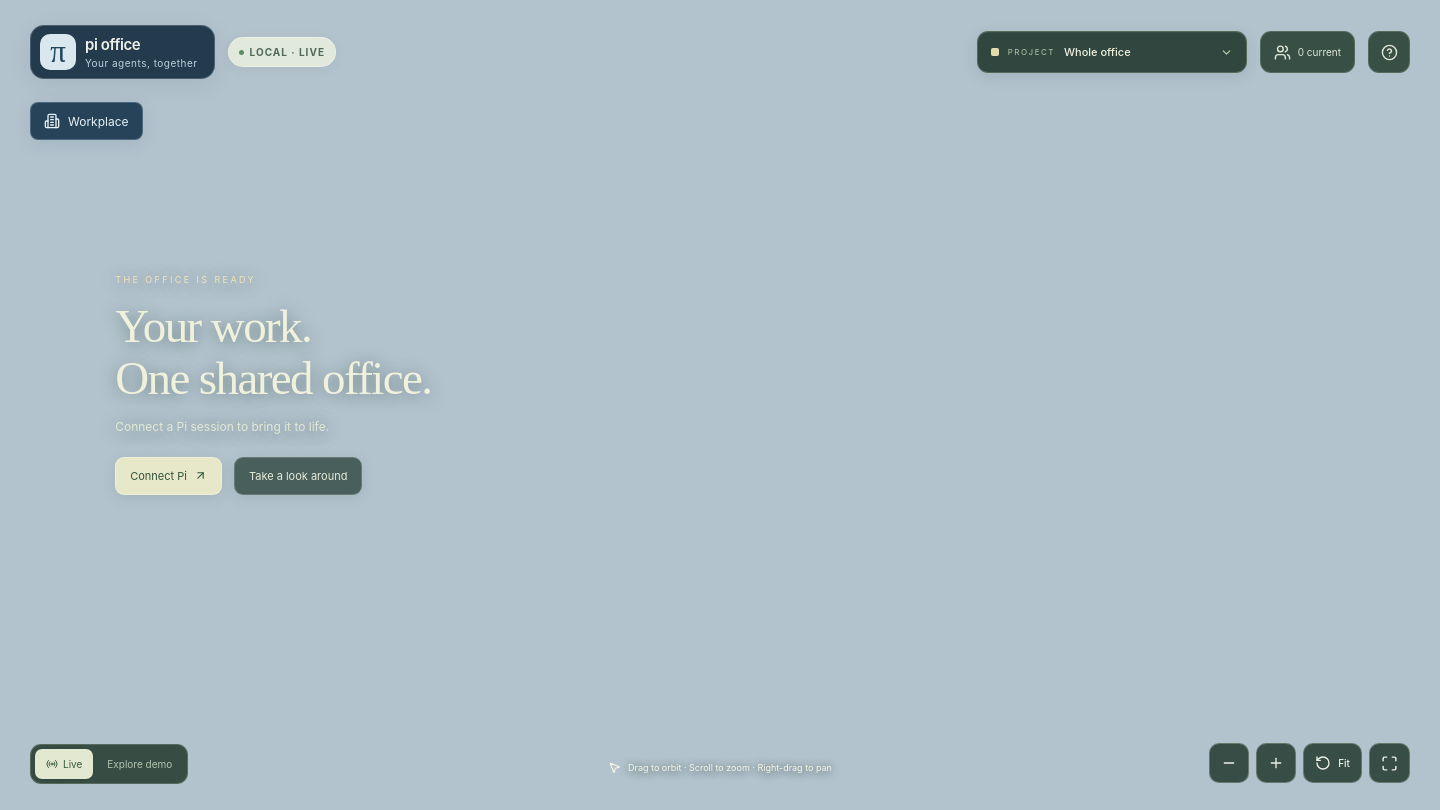
it: pre-publication frontend interaction audit › opening Inspect closes the roster so Escape dismisses the visible panel
Click the button "Explore demo". click: point(140, 764)
box: [96, 749, 183, 779]
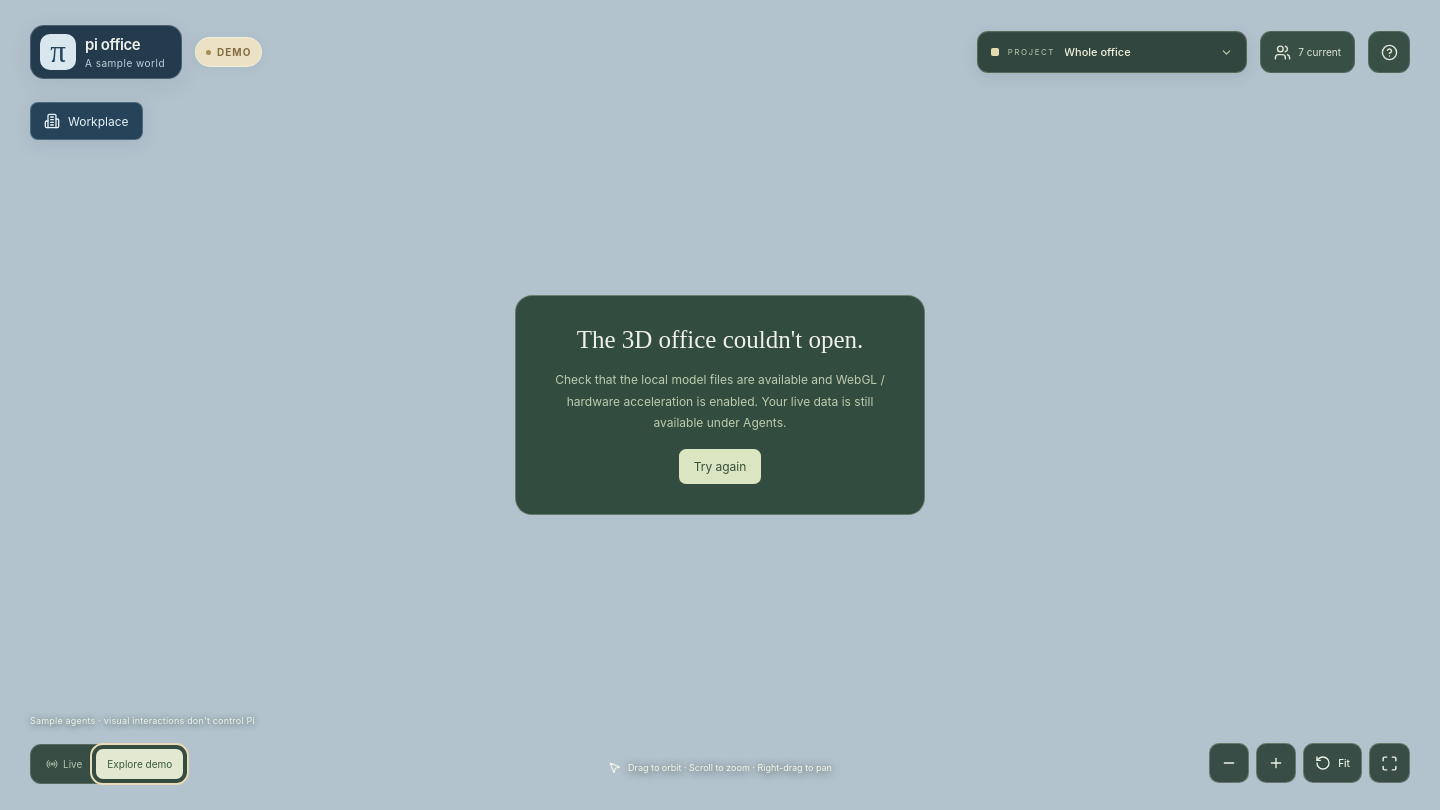
Click the button with aria-label "Open agent roster". click: point(1308, 52)
box: [1260, 31, 1355, 73]
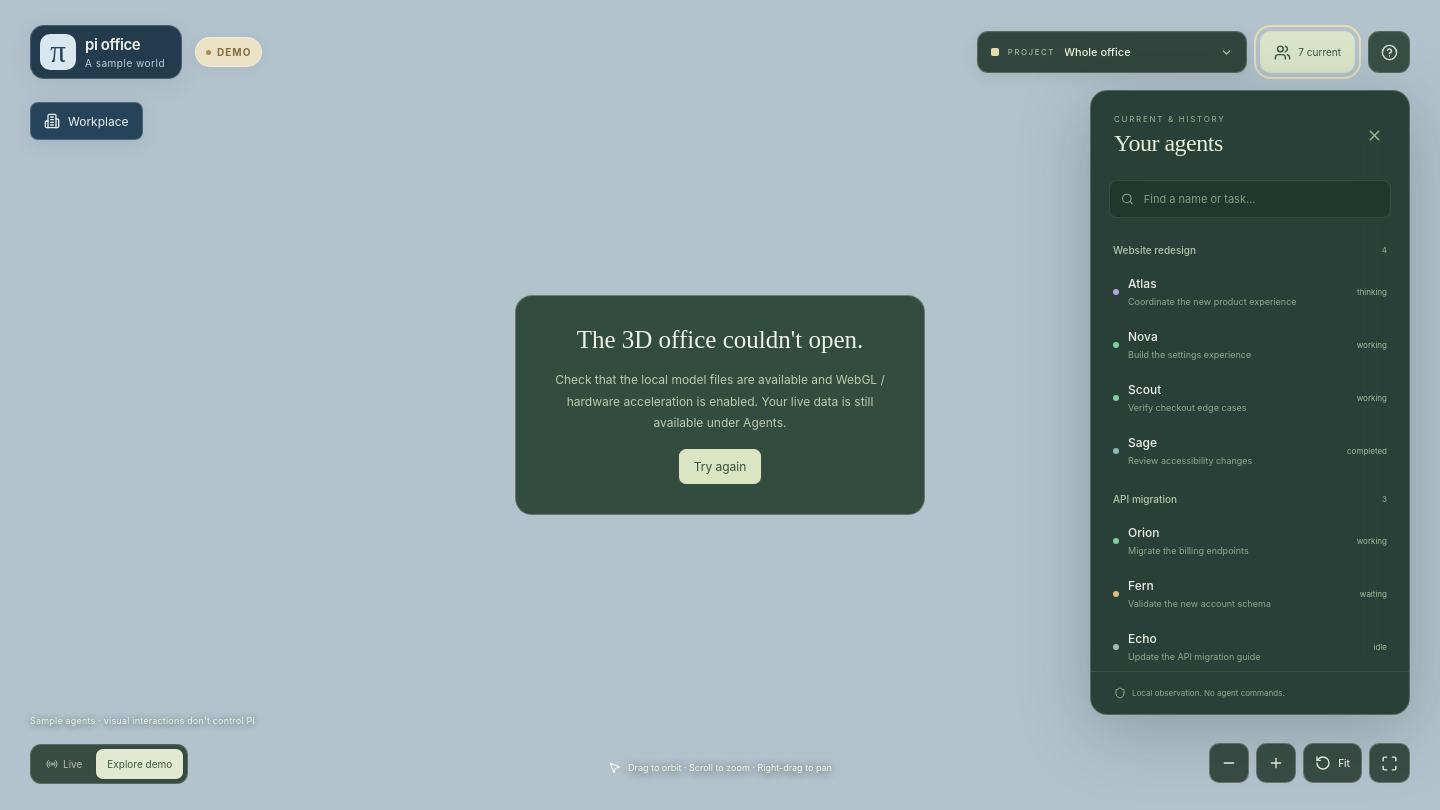
Click the button "Nova Build the settings experience working". click: point(1190, 354)
box: [1103, 318, 1397, 371]
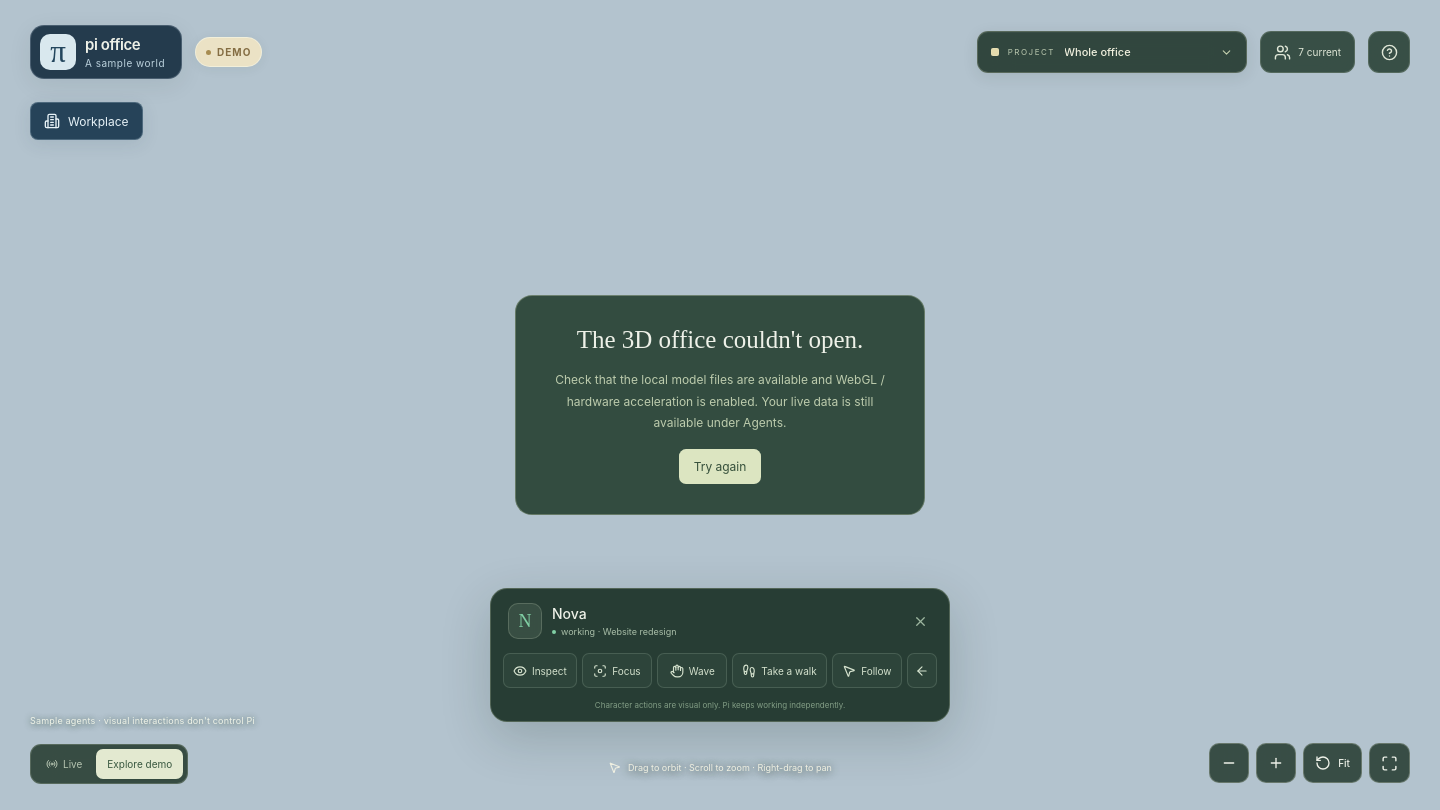
Click the button with aria-label "Open agent roster". click: point(1308, 52)
box: [1260, 31, 1355, 73]
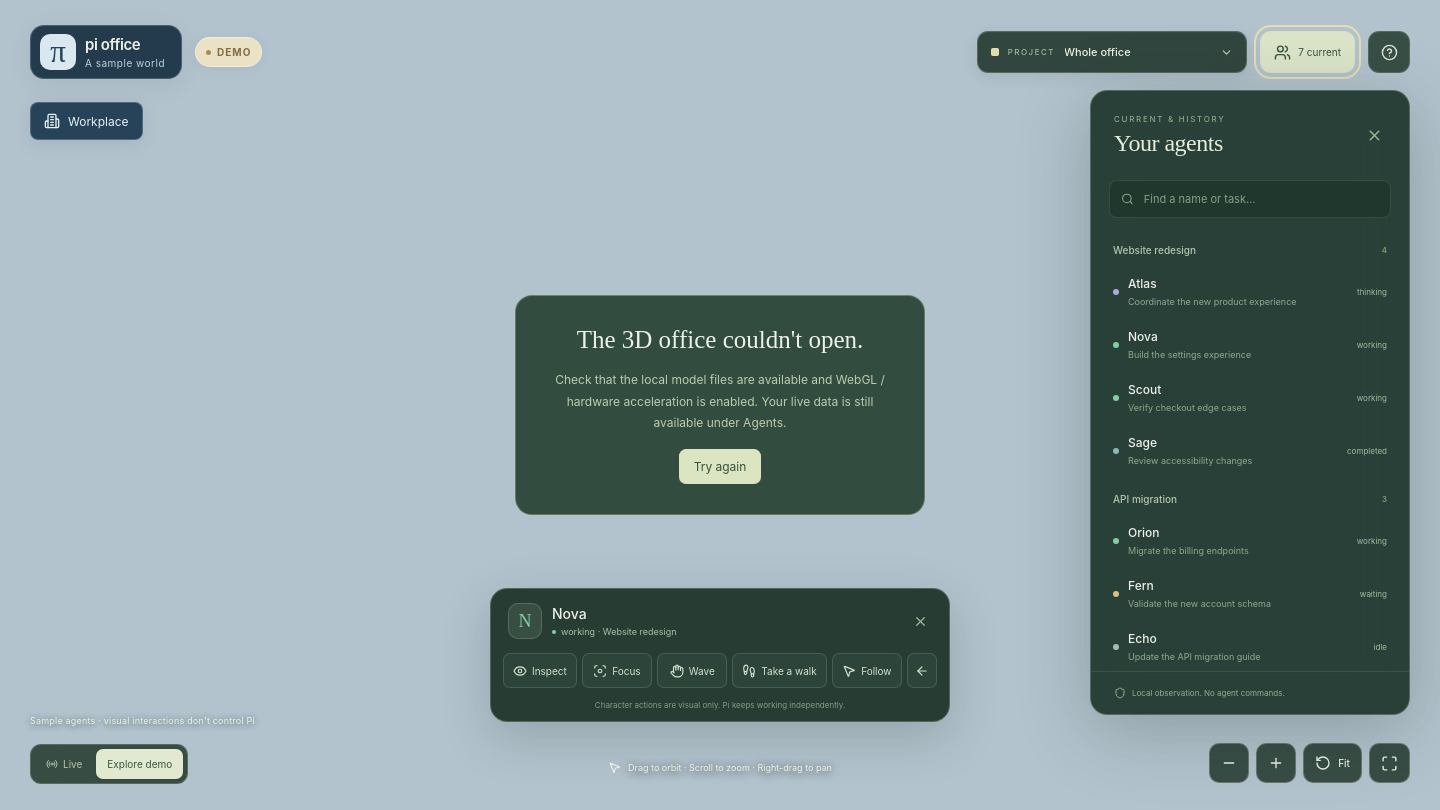
Click the button "Inspect". click: point(540, 670)
box: [503, 653, 577, 688]
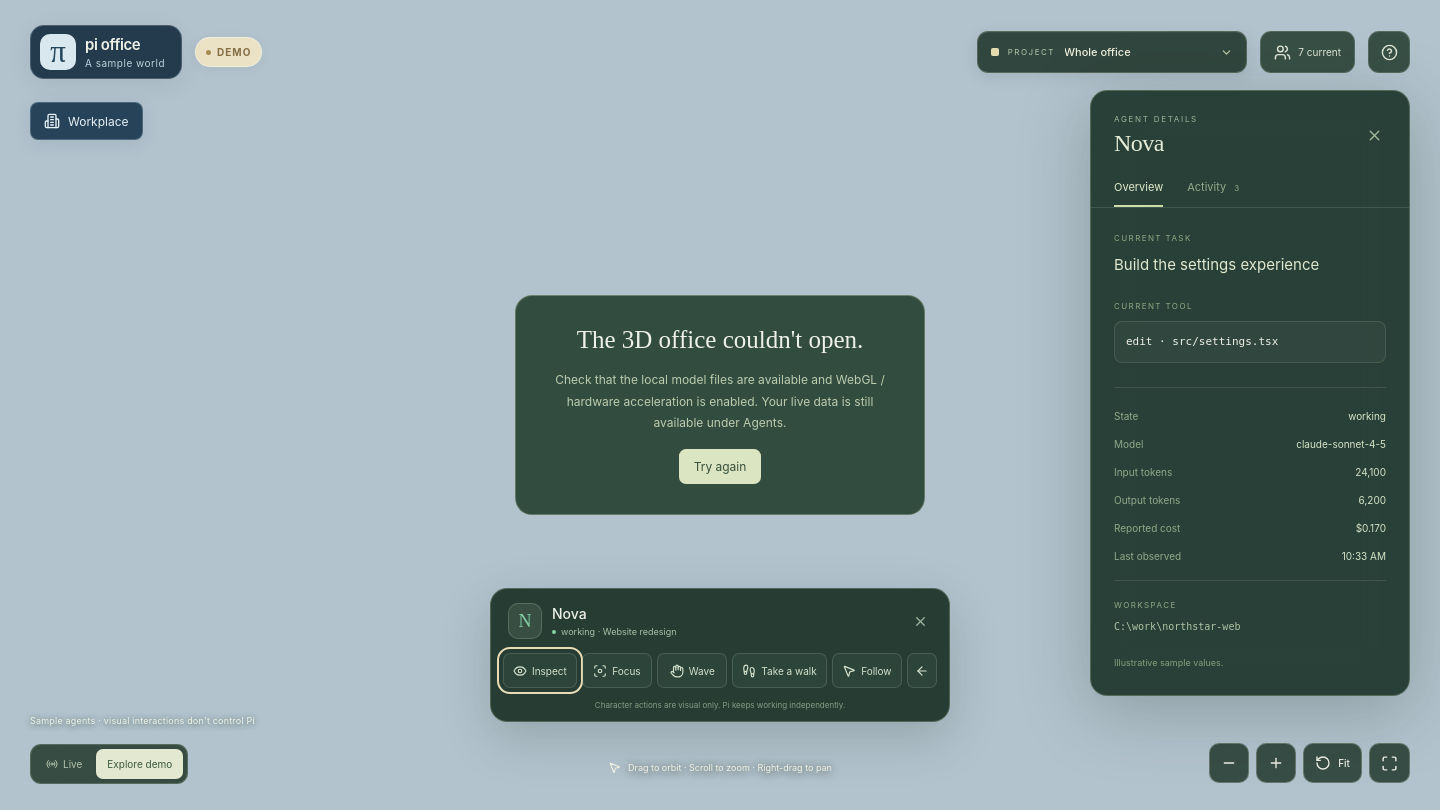
Expected: the text "AGENT DETAILS" is shown, [1114, 114, 1198, 124]
Press Escape
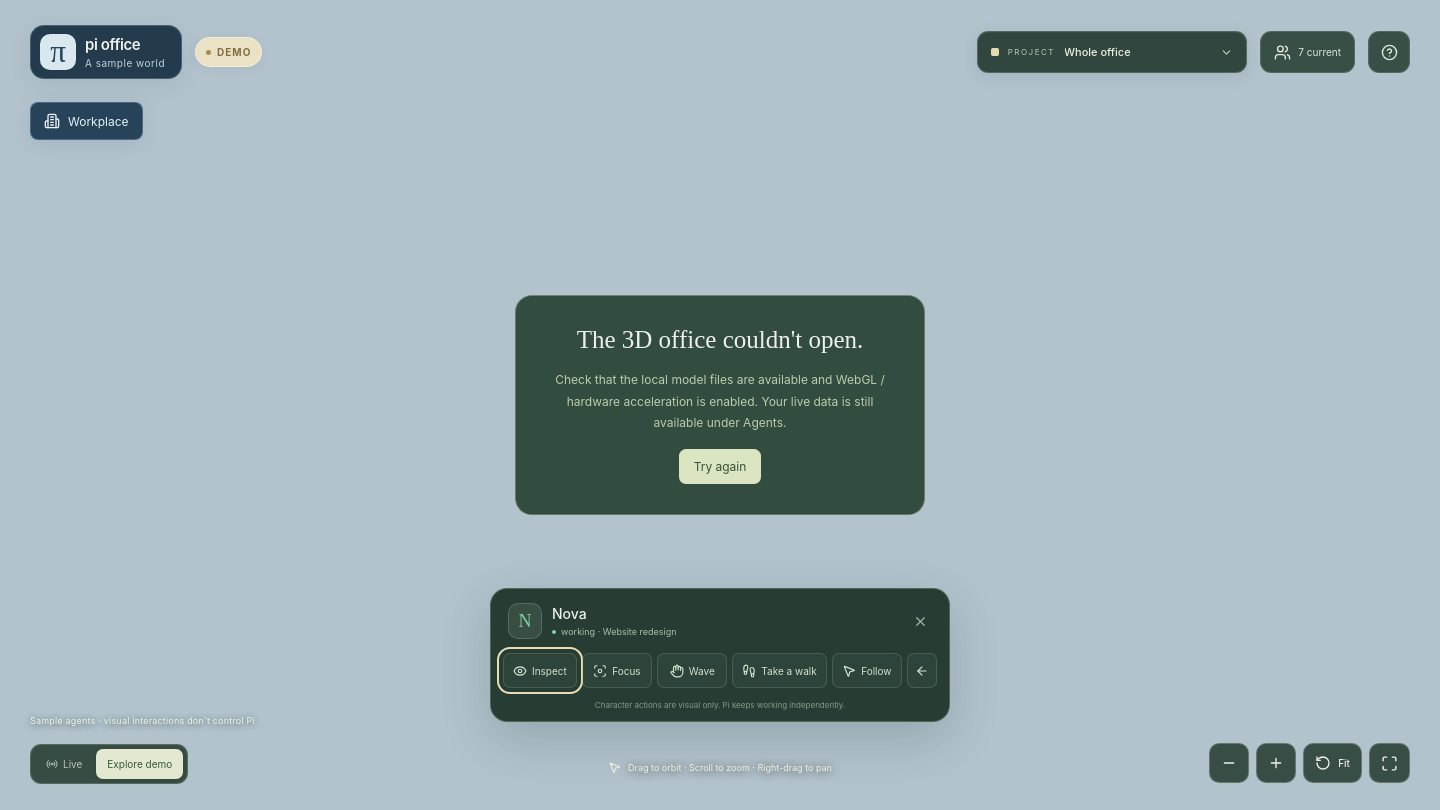
Expected: the text "AGENT DETAILS" is gone
